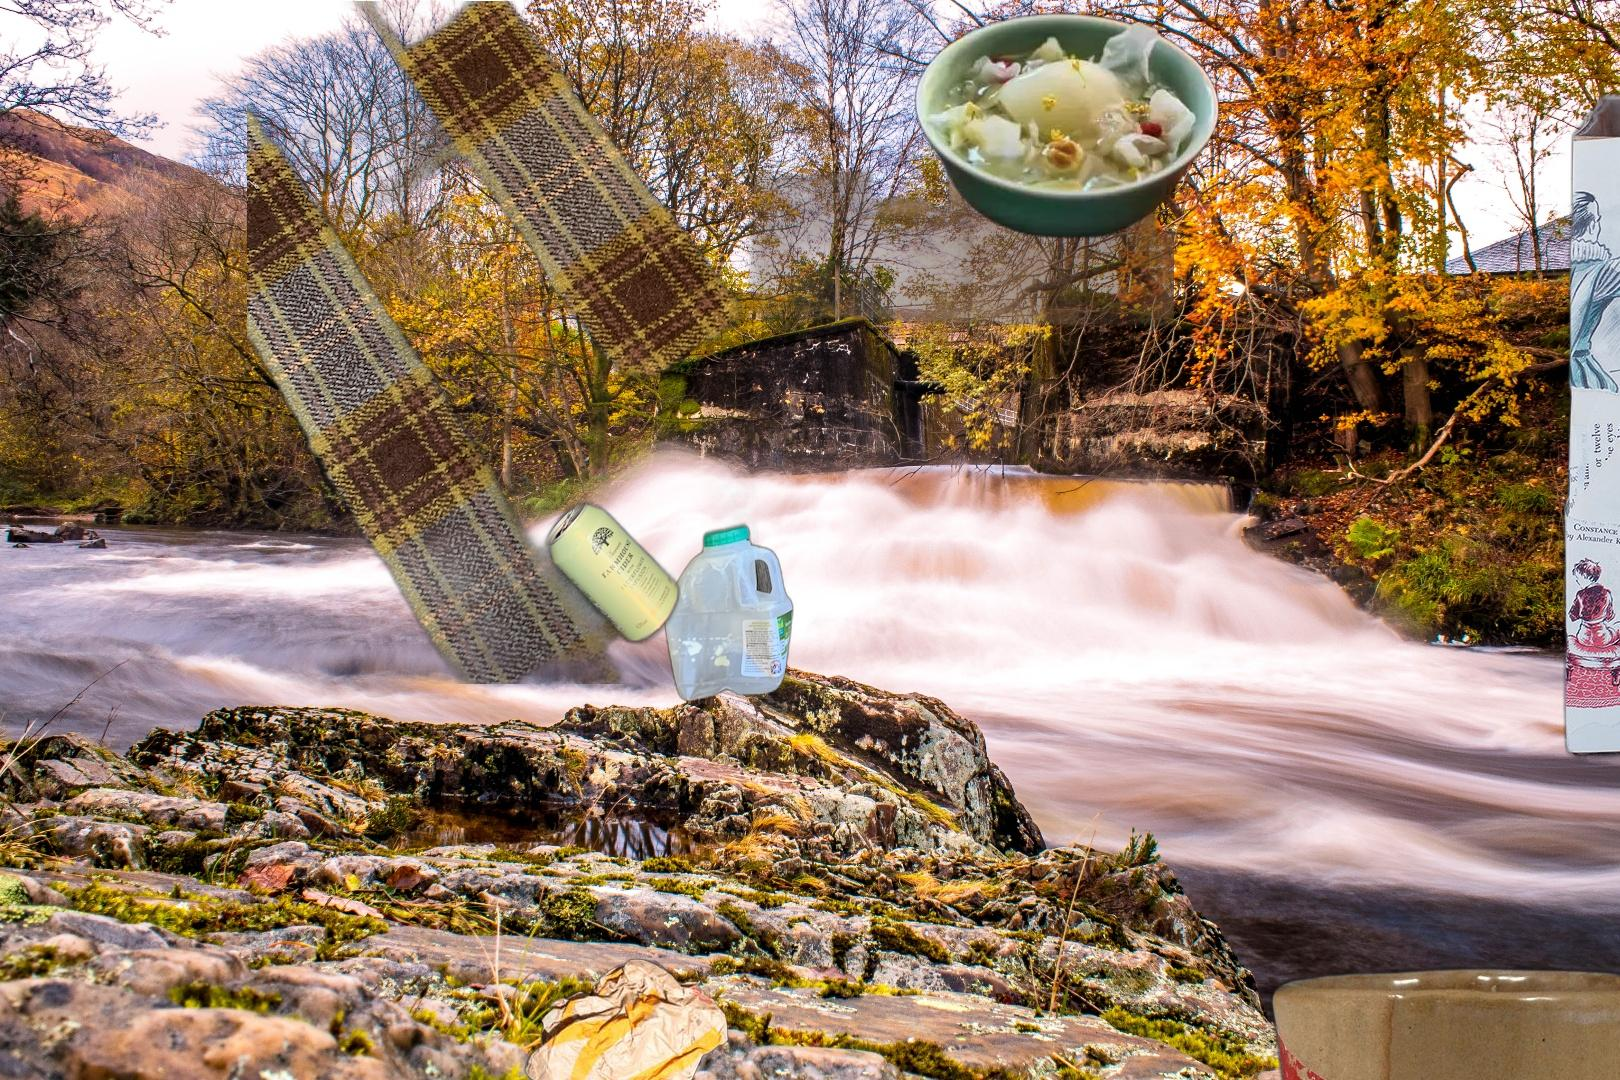biological: (912, 10, 1223, 241)
metal-cans: (247, 1, 759, 683)
paper-bag: (523, 958, 730, 1080)
plastic-bottles: (661, 520, 797, 708)
trashbox-cardboard: (673, 140, 1174, 469), (1557, 71, 1620, 769), (1258, 959, 1620, 1080)
